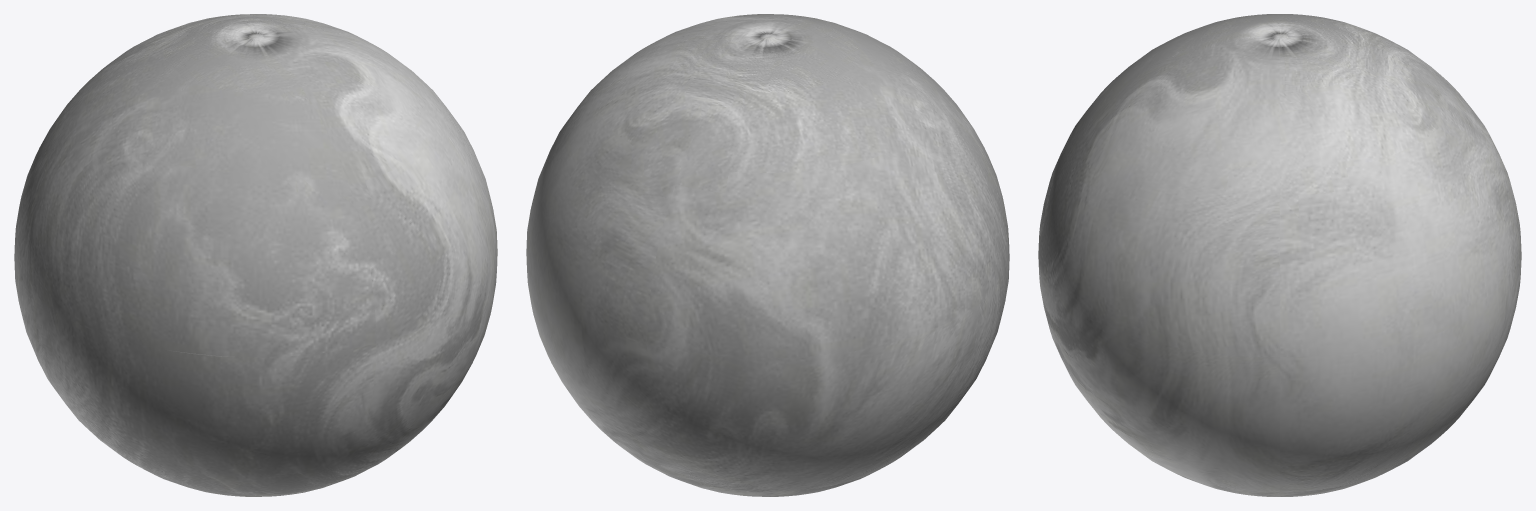
Rendered from yin-yang+sphere+3d+model_white.glb.
3 views of the same model, side by side, from view 1: azimuth 30°, elevation 25°; view 2: azimuth 150°, elevation 25°; view 3: azimuth 270°, elevation 25° (orthographic).
Parts seen in each view (by area): view 1: tripo_node_fcd5609c-ce5b-4f97-9109-d2a3a81784d3; view 2: tripo_node_fcd5609c-ce5b-4f97-9109-d2a3a81784d3; view 3: tripo_node_fcd5609c-ce5b-4f97-9109-d2a3a81784d3.
Part boxes in pixels (x1=…): tripo_node_fcd5609c-ce5b-4f97-9109-d2a3a81784d3: x1=14, y1=14, x2=497, y2=496; tripo_node_fcd5609c-ce5b-4f97-9109-d2a3a81784d3: x1=526, y1=14, x2=1009, y2=496; tripo_node_fcd5609c-ce5b-4f97-9109-d2a3a81784d3: x1=1038, y1=14, x2=1521, y2=496.
Bounding box in the file's own units: 0.998 × 0.998 × 0.998.
1 material, 1 textured.
